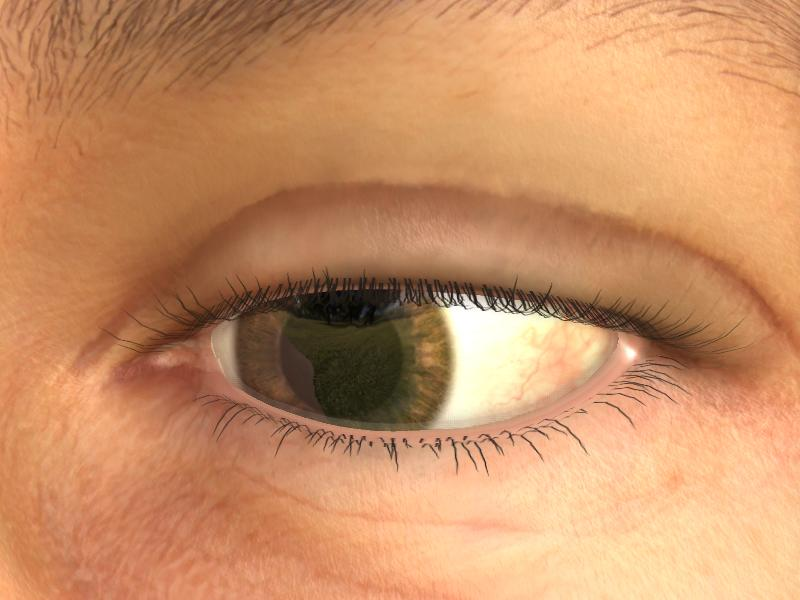eye: (234, 287, 454, 439)
